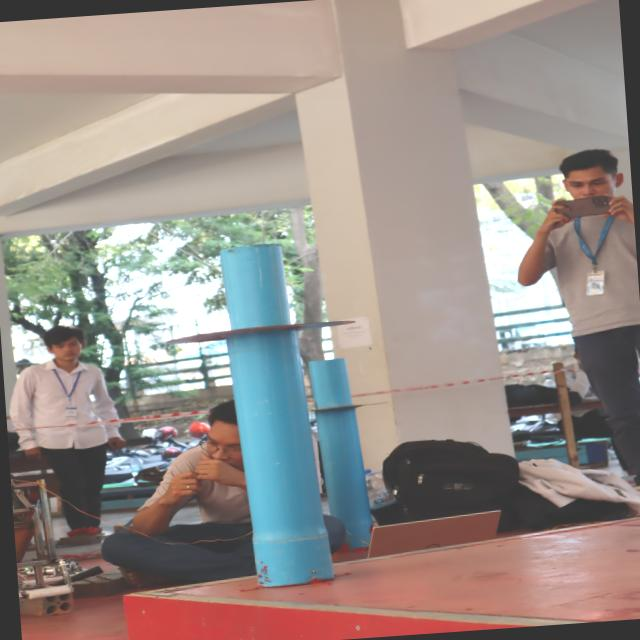pole: (164, 239, 340, 363), (296, 354, 372, 442)
